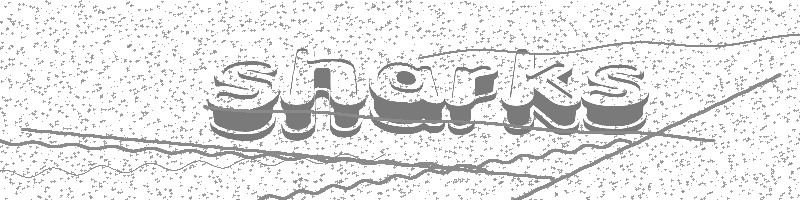a: (368, 58, 446, 136)
h: (281, 46, 368, 140)
k: (499, 49, 582, 136)
r: (447, 63, 498, 138)
s: (204, 56, 280, 140), (582, 59, 650, 133)
